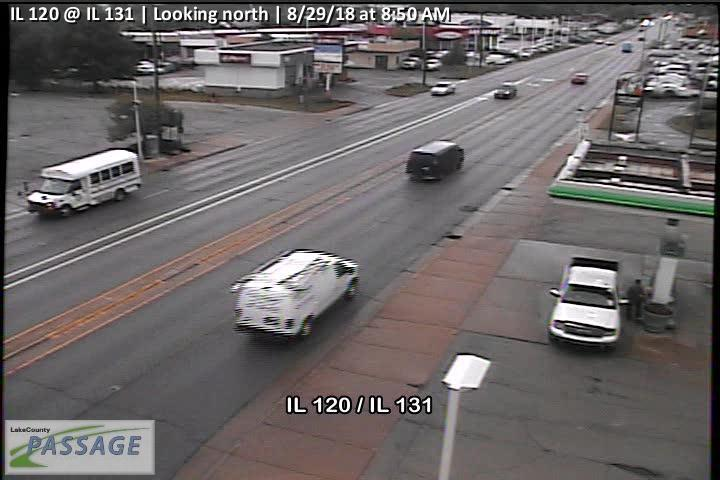Bus: (16, 148, 142, 218)
SUV: (230, 247, 358, 340), (407, 139, 467, 181), (493, 83, 517, 99), (621, 40, 634, 51)
Sedan: (546, 255, 631, 351), (430, 79, 456, 96), (572, 72, 588, 83)
